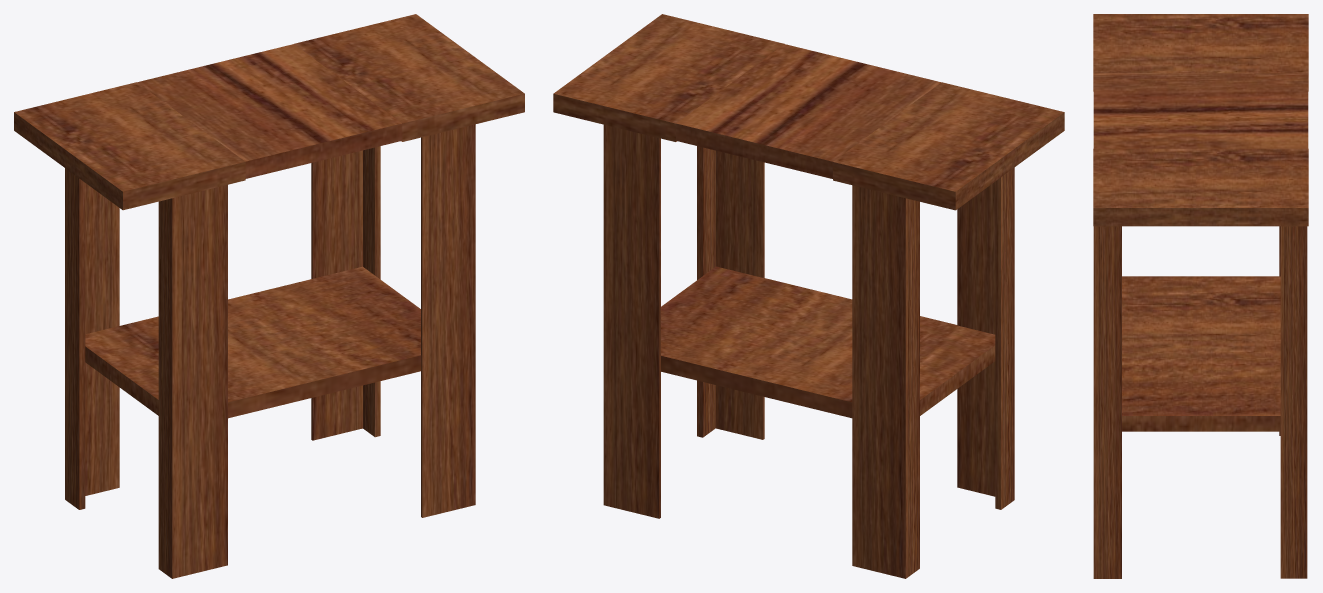
Rendered from mesa_tele.obj.
3 renders of one model, left to right at view 1: azimuth 30°, elevation 25°; view 2: azimuth 150°, elevation 25°; view 3: azimuth 270°, elevation 25°, orthographic.
Parts seen in each view (by area): view 1: Cube_002; view 2: Cube_002; view 3: Cube_002.
Part boxes in pixels (left/top/right/bottom): Cube_002: left=14, top=14, right=524, bottom=578; Cube_002: left=553, top=14, right=1064, bottom=578; Cube_002: left=1093, top=14, right=1308, bottom=578.
Size of the model in its own units: 42.68 by 40.52 by 20.
Materials: 1 (1 with a texture image).
